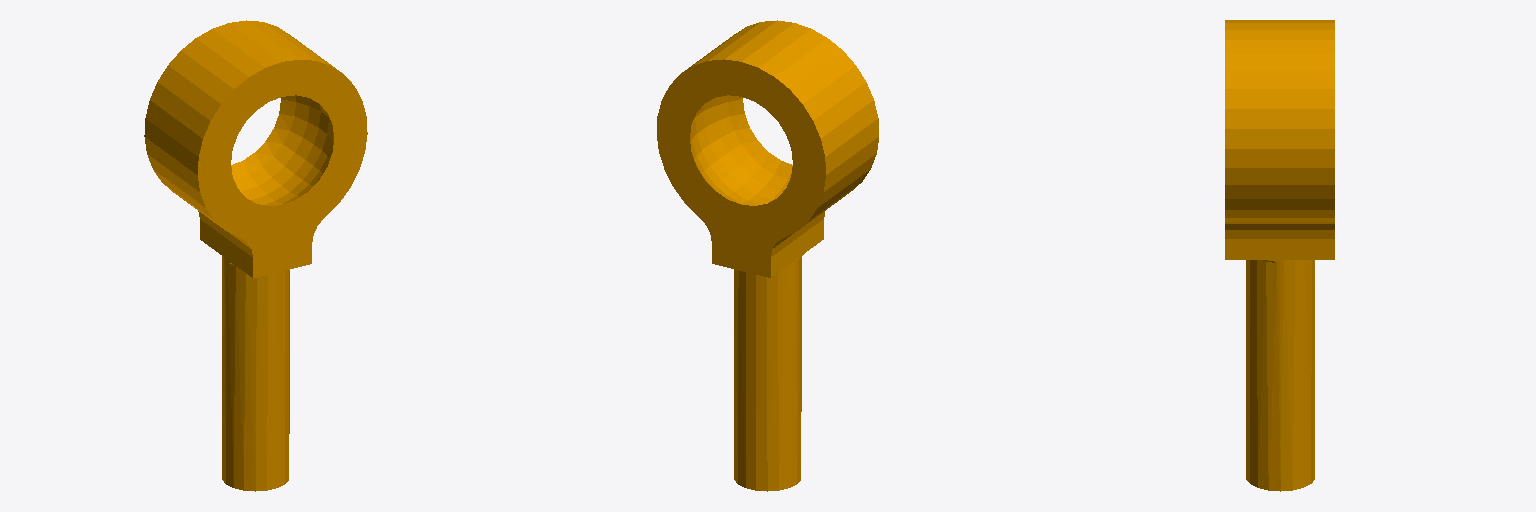
The robot description file, URDF, robot "00062_plug":
<?xml version="1.0"?>
<robot name="00062_plug">
	<link name="00062_plug">
		<visual>
			<geometry>
				<mesh filename="../mesh/00062/asset_plug.obj"/>
			</geometry>
		</visual>
		<collision>
			<geometry>
				<mesh filename="../mesh/00062/asset_plug.obj"/>
			</geometry>
			<sdf resolution="256"/>
		</collision>
	</link>
</robot>

--- Render facts (derived) ---
The picture shows the robot from 3 angles, left to right: view 1: azimuth 30°, elevation 25°; view 2: azimuth 150°, elevation 25°; view 3: azimuth 270°, elevation 25°; orthographic projection.
Robot: 00062_plug — 1 links, 0 joints (none); root link 00062_plug; default pose: every joint at zero.
Links seen in each view (by area): view 1: 00062_plug; view 2: 00062_plug; view 3: 00062_plug.
Boxes of the visible links, x1,y1,x2,y2 form: 00062_plug: (144, 20, 367, 491); 00062_plug: (657, 20, 878, 491); 00062_plug: (1225, 20, 1334, 491).
Bounding box of the posed robot: 0.0231 × 0.0126 × 0.0565 m (x, y, z).
1 mesh visuals loaded from 1 distinct referenced files (1 OBJ).